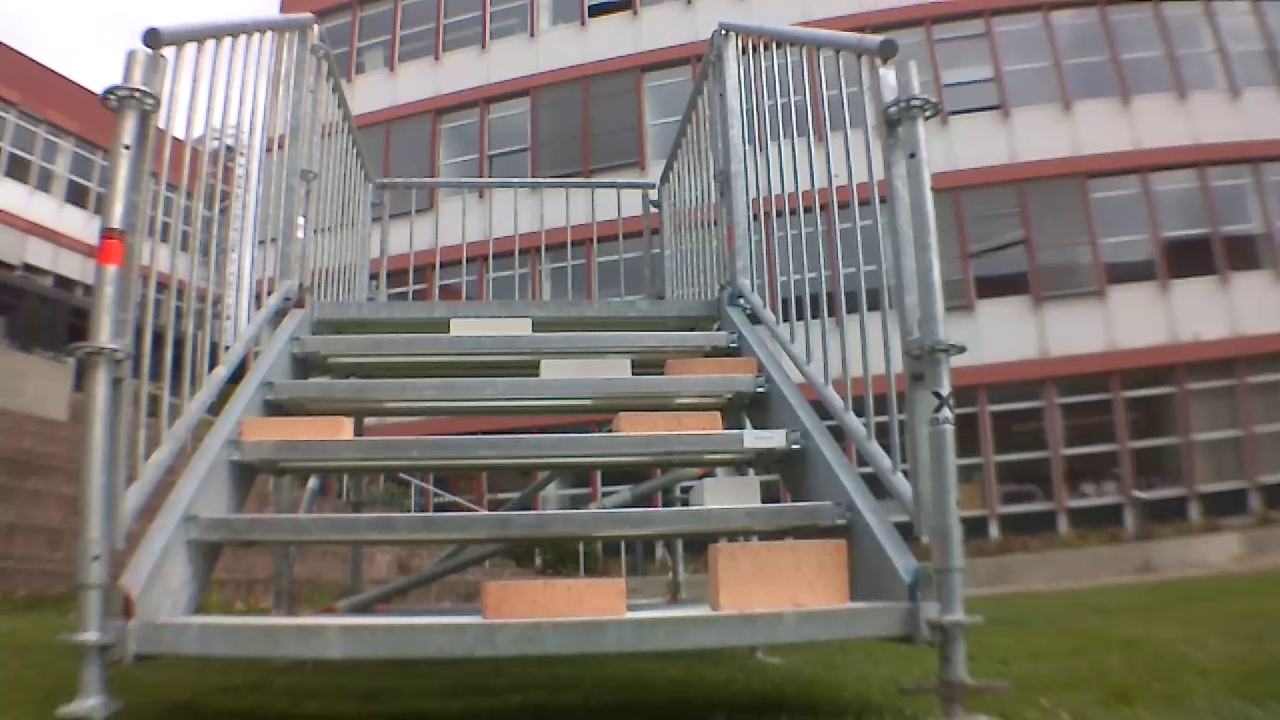brick: (701, 541, 849, 616), (472, 581, 644, 623), (240, 412, 355, 441), (696, 471, 767, 508), (611, 406, 721, 428), (442, 313, 537, 338), (662, 356, 762, 376), (534, 359, 628, 380)
edge: (130, 602, 928, 656), (184, 503, 861, 546), (231, 426, 815, 464), (282, 328, 749, 360), (258, 377, 773, 402), (309, 298, 721, 321)
stairs: (97, 21, 942, 686)
steps: (126, 294, 954, 657)
